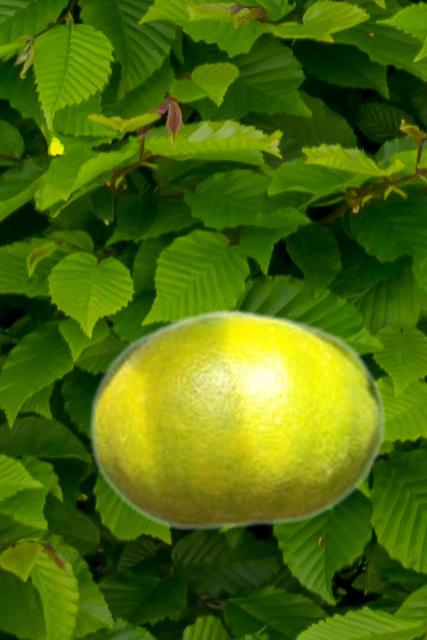dalandan: (88, 308, 384, 531)
